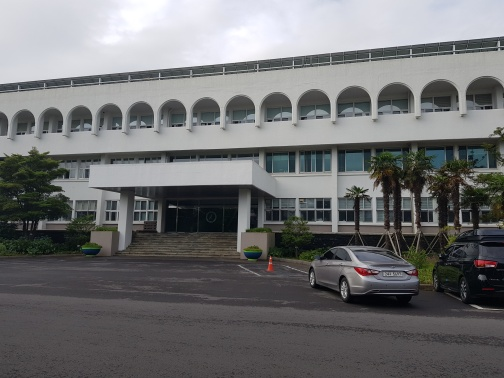Main Building of University: (9, 37, 502, 233), (82, 151, 273, 267), (255, 77, 463, 127), (12, 100, 156, 139)
